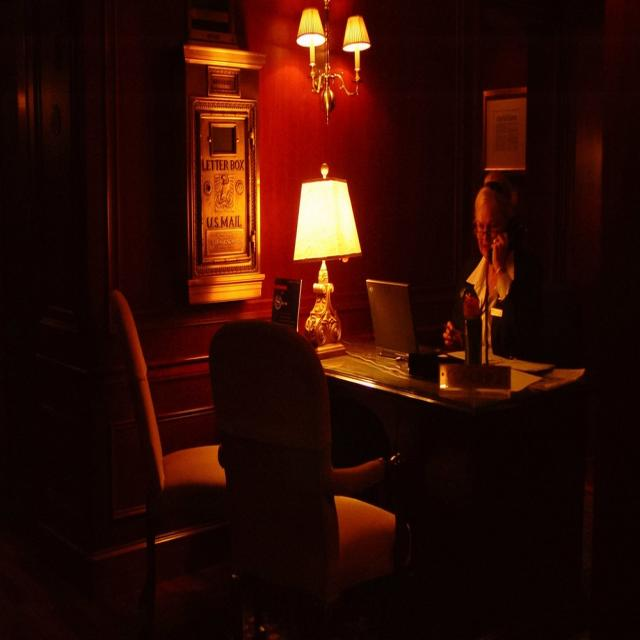Table: (277, 285, 596, 500)
chair: (198, 282, 413, 636), (99, 271, 224, 620)
